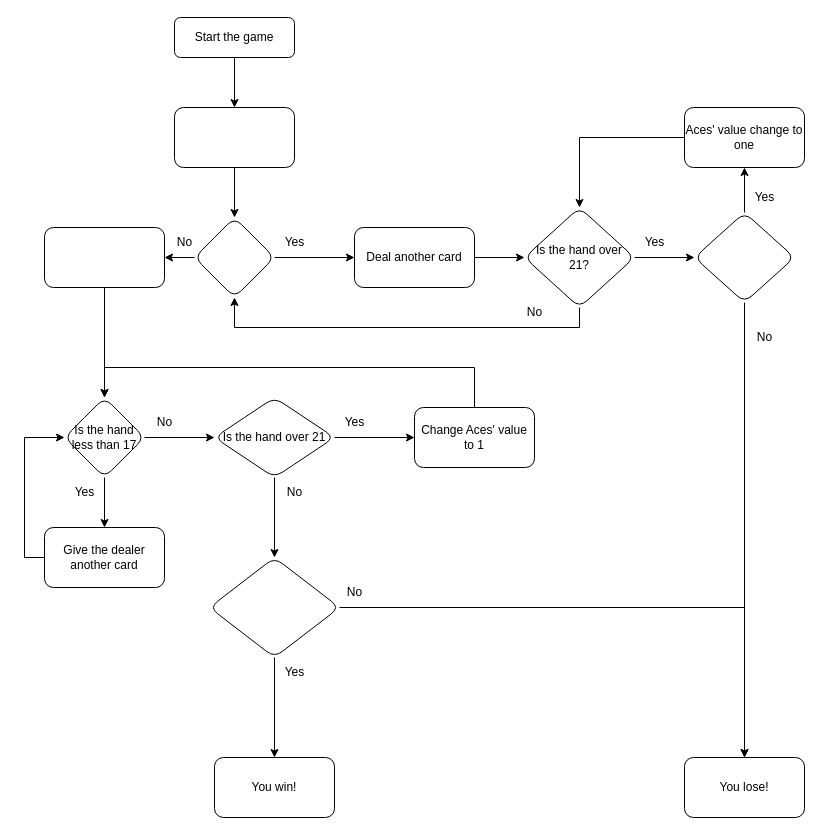
Image size: 822x835. Some labels were removed from this diagram. The centre of each missing label's shape, as x and y in pixels:
"Are there any Aces?" belongs at (744,257).
"Deal two cards to the user and one card to the dealer" belongs at (234,137).
"Get another card?" belongs at (234,257).
"Give a card to the dealer" belongs at (104,257).
"Is the user's hand better than the computer's" belongs at (274,607).
